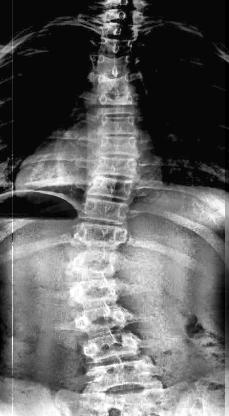Vertebrae: (84, 359, 162, 395), (75, 329, 144, 363), (65, 280, 129, 308), (69, 250, 123, 280), (76, 225, 136, 252), (70, 306, 136, 329), (83, 199, 129, 226), (86, 178, 134, 200), (99, 136, 139, 160), (97, 80, 137, 104), (100, 114, 138, 138), (93, 57, 138, 77), (96, 37, 140, 57), (95, 157, 137, 177), (100, 22, 142, 38)
